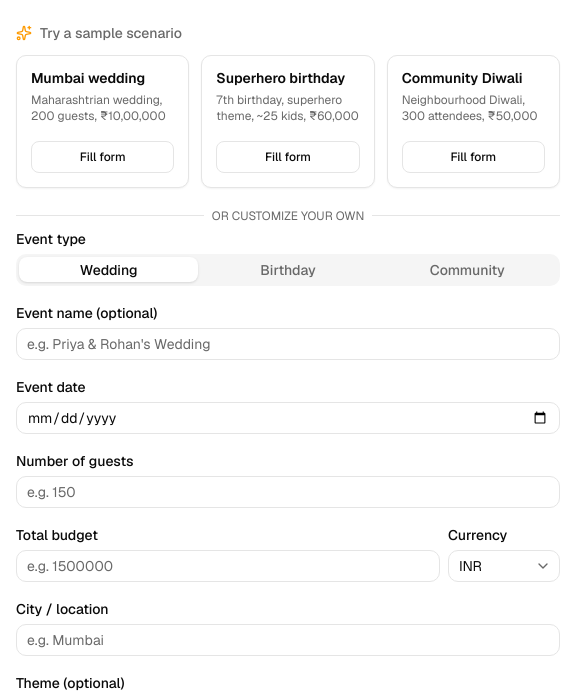
Test: IntakeForm — valid submit produces correct types › clicking birthday demo scenario switches event type and template chips
Click the button with aria-label "fill form with superhero birthday".
click(288, 156)  # box [216,140,360,172]
(page scrolled)
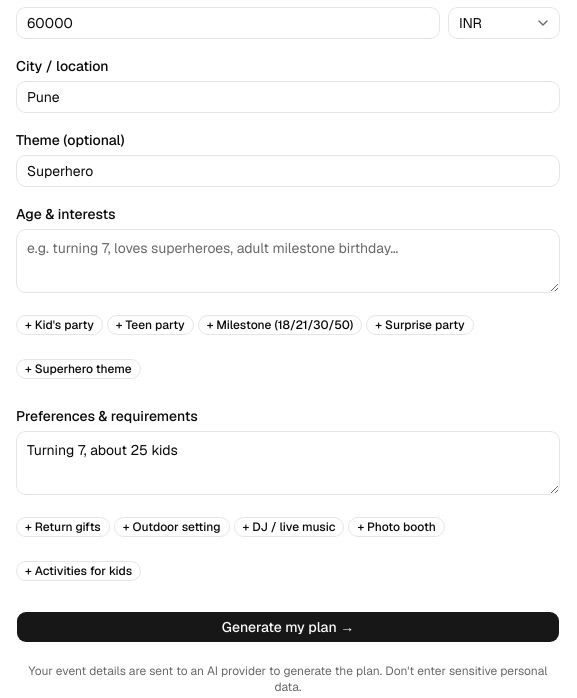
Check: the text "Age & interests" is shown, box [16,204,116,222]
Check: the field labelled "City / location" holds "Pune", box [16,80,560,112]
Check: the button "Generate my plan →" is enabled, box [16,610,560,642]
